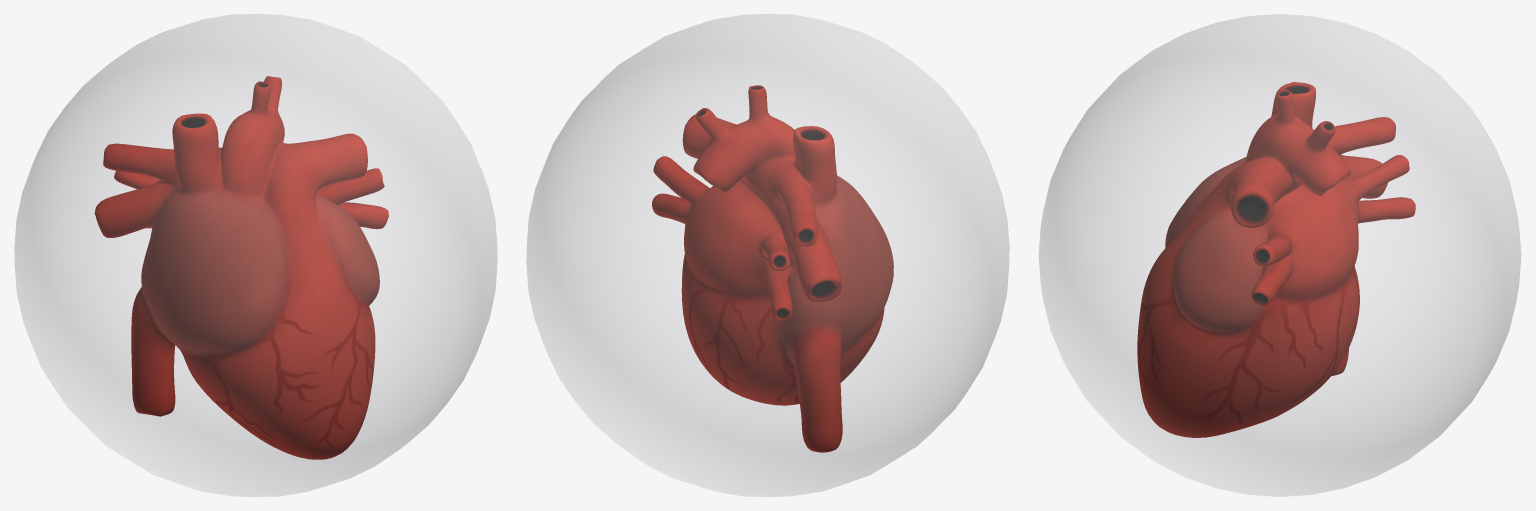
3 views of the same model, side by side, from view 1: azimuth 30°, elevation 25°; view 2: azimuth 150°, elevation 25°; view 3: azimuth 270°, elevation 25° (orthographic).
Visible parts, largest first — view 1: Marble, Heart; view 2: Marble, Heart; view 3: Marble, Heart.
Part boxes in pixels (left/top/right/bottom): Marble: left=14, top=14, right=497, bottom=496; Heart: left=94, top=76, right=388, bottom=459; Marble: left=526, top=14, right=1009, bottom=496; Heart: left=652, top=85, right=893, bottom=452; Marble: left=1038, top=14, right=1521, bottom=496; Heart: left=1137, top=82, right=1415, bottom=437.
Size of the model in its own units: 1.99 by 1.99 by 1.99.
Materials: 2 (2 with a texture image).
